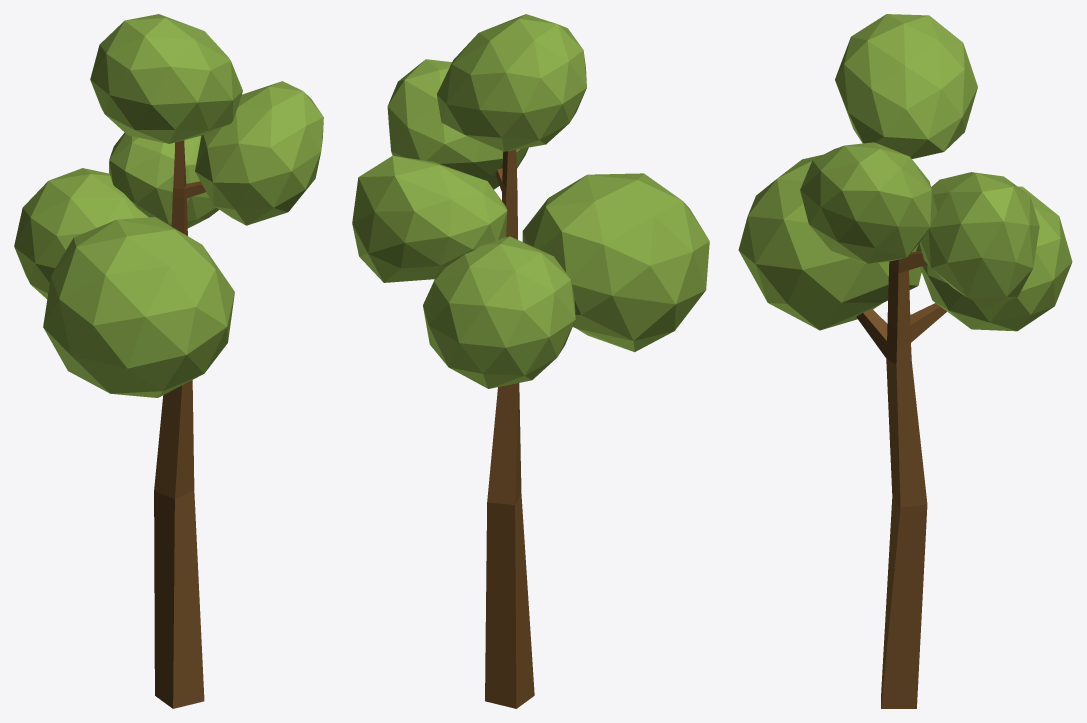
Rendered from f_long_oak_tree2.fbx.
3 views of the same model, side by side, from view 1: azimuth 30°, elevation 25°; view 2: azimuth 150°, elevation 25°; view 3: azimuth 270°, elevation 25° (orthographic).
Parts seen in each view (by area): view 1: OakTree2; view 2: OakTree2; view 3: OakTree2.
Part boxes in pixels (box(x1,y1,x2,y2)): OakTree2: box(14, 14, 323, 708); OakTree2: box(352, 14, 709, 708); OakTree2: box(738, 14, 1072, 708).
Bounding box in the file's own units: 427 × 1016 × 458.
